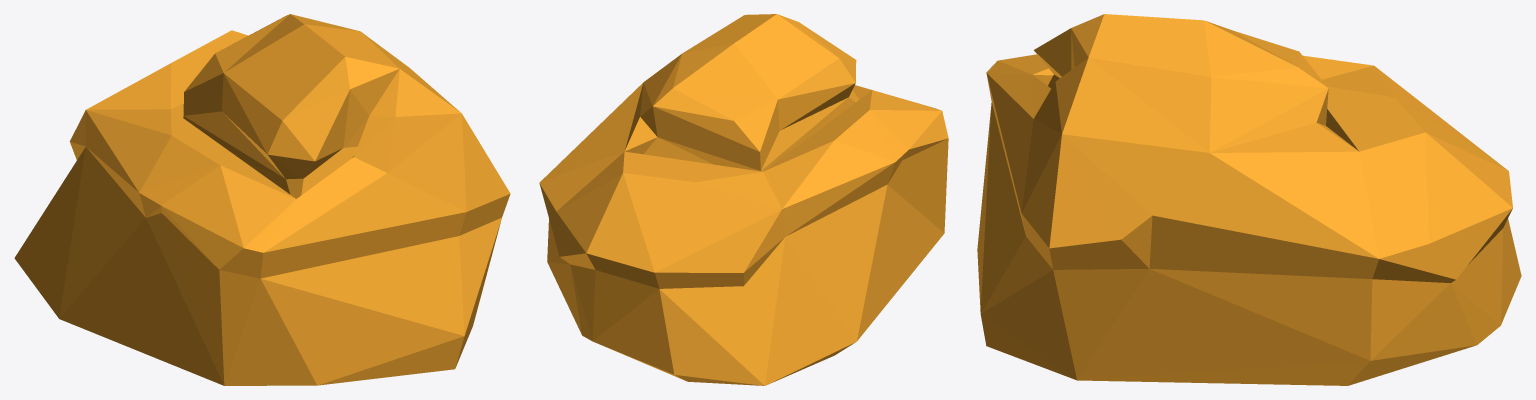
Rendered from SM_Stone_D_Snow.fbx.
3 renders of one model, left to right at view 1: azimuth 30°, elevation 25°; view 2: azimuth 150°, elevation 25°; view 3: azimuth 270°, elevation 25°, orthographic. The views are drawn at different scales.
Visible parts, largest first — view 1: stone-d-snow; view 2: stone-d-snow; view 3: stone-d-snow.
Part boxes in pixels (<box>): stone-d-snow: <box>14,14,510,385</box>; stone-d-snow: <box>539,14,948,385</box>; stone-d-snow: <box>977,14,1521,385</box>.
Size of the model in its own units: 0.4794 by 0.4024 by 0.6005.
